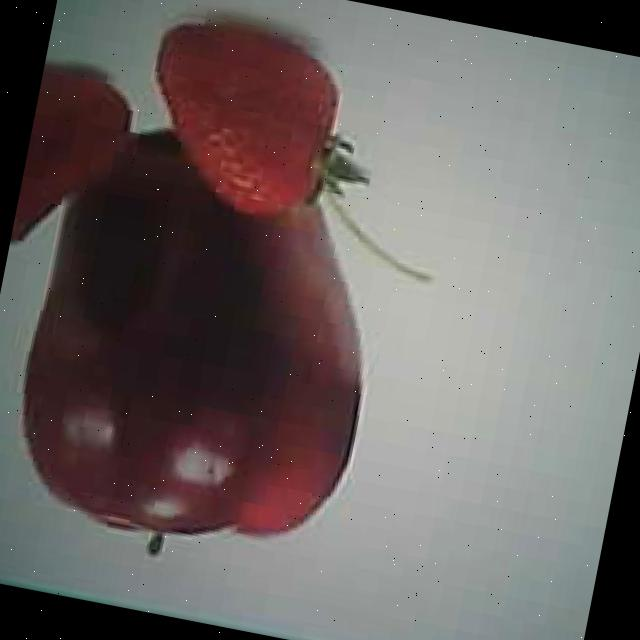strawberry: (132, 14, 347, 221)
